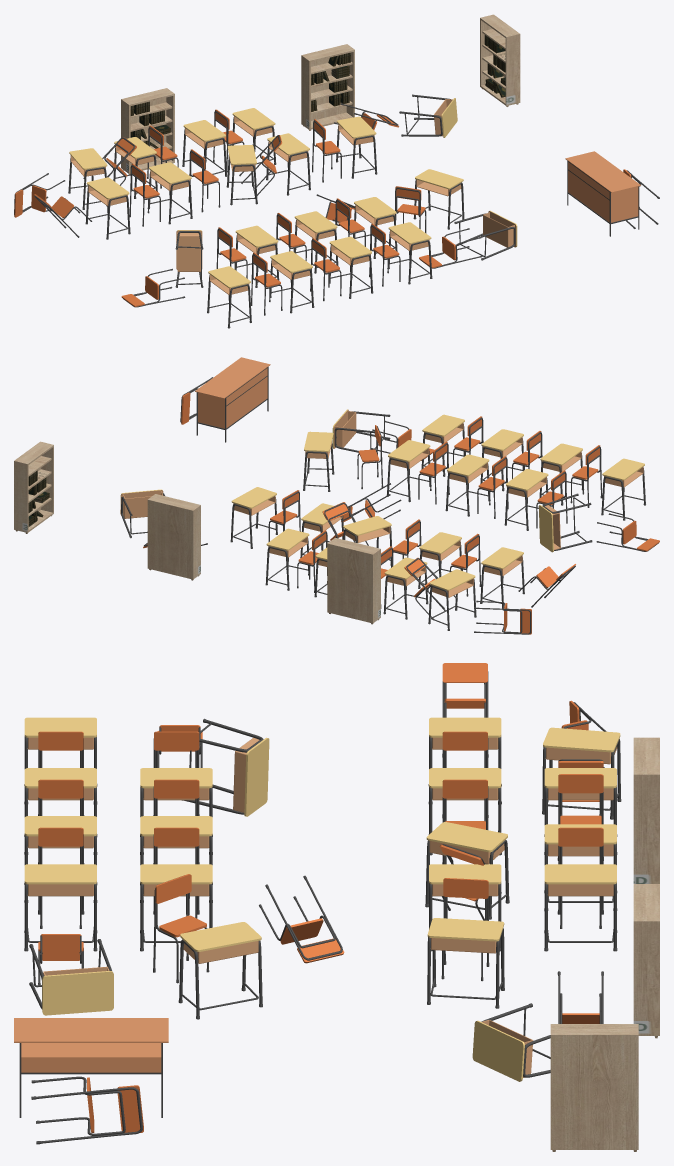
Rendered from Salon n1.fbx.
The picture shows the model from 3 angles, top to bottom: view 1: azimuth 30°, elevation 25°; view 2: azimuth 150°, elevation 25°; view 3: azimuth 270°, elevation 25°; orthographic projection. The views are drawn at different scales.
Parts seen in each view (by area): view 1: Bookcase.005, Mesa N41, Bookcase.004, Cube.002, Mesa N40.019, Mesa N40.025, Mesa N40.016, Mesa N40.029, Mesa N40.001, Mesa N40.014, Mesa N40.033, Mesa N40.037 (+28 smaller); view 2: Cube.002, Bookcase.005, Mesa N41, Bookcase.004, Mesa N40.019, Mesa N40.025, Mesa N40.022, Mesa N40.014, Mesa N40.029, Mesa N40.001, Mesa N40.018, Mesa N40.013 (+27 smaller); view 3: Bookcase.004, Mesa N41, Mesa N40.019, Bookcase.005, Cube.002, Mesa N40.016, Mesa N40.014, Mesa N40.015, Mesa N40.025, Mesa N40.013, Mesa N40.022, Mesa N40.038 (+28 smaller).
Part boxes in pixels (x1,y1,x2,y2): Bookcase.005: (301,44,354,130); Mesa N41: (565,151,640,236); Bookcase.004: (480,14,520,106); Cube.002: (121,88,174,174); Mesa N40.019: (266,133,517,260); Mesa N40.025: (175,230,203,287); Mesa N40.016: (413,169,464,229); Mesa N40.029: (207,266,251,328); Mesa N40.001: (85,177,130,239); Mesa N40.014: (336,116,377,178); Mesa N40.033: (270,251,314,313); Mesa N40.037: (329,236,373,298); Cube.002: (327,537,380,624); Bookcase.005: (147,494,200,580); Mesa N41: (195,357,270,442); Bookcase.004: (14,441,53,533); Mesa N40.019: (300,409,390,557); Mesa N40.025: (538,493,592,552); Mesa N40.022: (428,569,476,630); Mesa N40.014: (230,487,277,548); Mesa N40.029: (601,458,645,520); Mesa N40.001: (480,547,524,608); Mesa N40.018: (445,454,490,516); Mesa N40.013: (265,528,309,590); Bookcase.004: (550,1024,638,1151); Mesa N41: (14,1018,168,1117); Mesa N40.019: (29,864,501,1015); Bookcase.005: (633,884,659,1038); Cube.002: (633,737,659,883); Mesa N40.016: (178,922,262,1019); Mesa N40.014: (427,918,504,1008); Mesa N40.015: (472,1003,550,1081); Mesa N40.025: (182,718,269,816); Mesa N40.013: (544,864,617,951); Mesa N40.022: (542,727,621,819); Mesa N40.038: (24,864,97,951).
Bounding box in the file's own units: 1683 × 235 × 1118.
9 materials, 2 textured.
